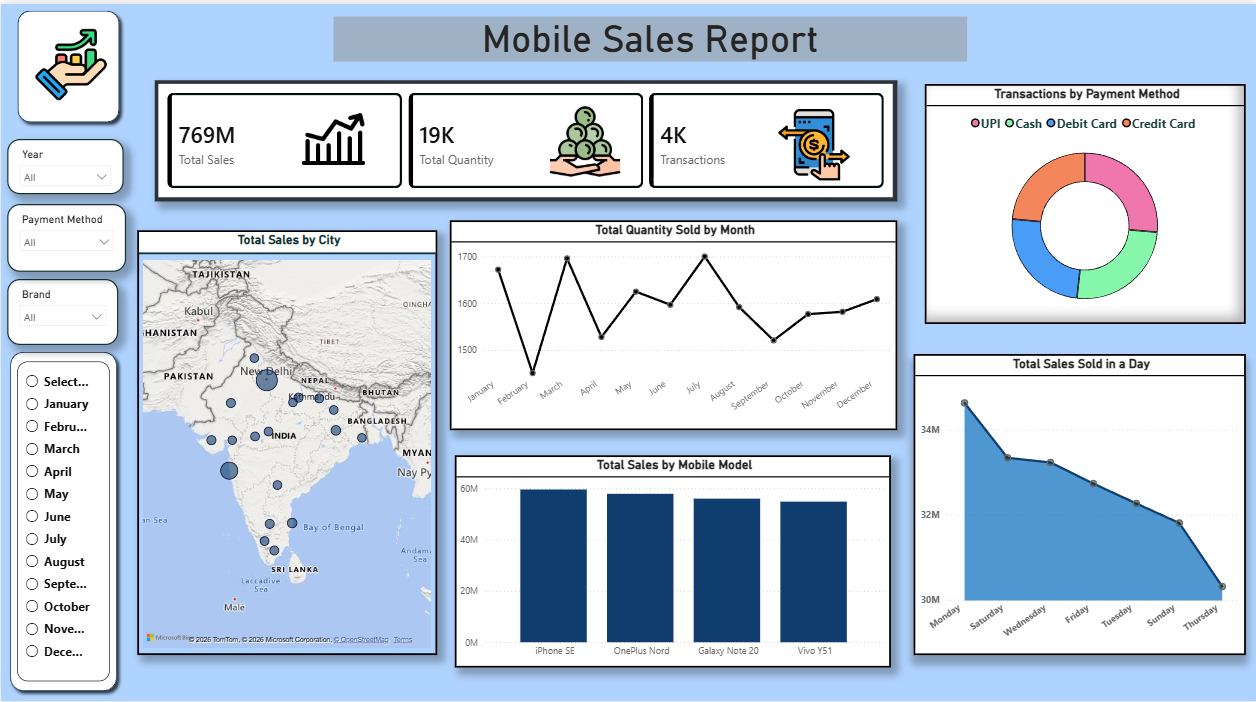

This screenshot's page, from the dashboard's own definition file:
{"tool":"powerbi","page":{"name":"Page 2","canvas":[1677,930],"ordinal":1},"visuals":[{"type":"shape","box":[13.3,0,153.3,166.7],"z":0},{"type":"shape","box":[3.3,455,160,470],"z":1000},{"type":"image","box":[26.7,28.3,133.3,105],"z":2000},{"type":"listSlicer","fields":{"Values":["Mobile Sales Data.Date.Variation.Date Hierarchy.Month"]},"box":[21.7,476.7,123.3,426.7],"z":3000},{"type":"cardVisual","fields":{"Data":["Mobile Sales Data.Total Sales","Mobile Sales Data.Total Quantity","Mobile Sales Data.Transactions"]},"box":[205,101.7,990,161.7],"z":4000},{"type":"image","box":[395,133.3,96.7,93.3],"z":5000},{"type":"image","box":[720,133.3,118.3,100],"z":6000},{"type":"image","box":[1031.7,140,105,95],"z":7000},{"type":"map","fields":{"Category":["Mobile Sales Data.City"],"Size":["Mobile Sales Data.Total Sales"]},"box":[181.7,301.7,400,566.7],"z":8000},{"type":"lineChart","title":"Total Quantity Sold by Month","fields":{"Category":["Mobile Sales Data.Date.Variation.Date Hierarchy.Month"],"Y":["Sum(Mobile Sales Data.Units Sold)"]},"box":[598.3,288.3,596.7,280],"z":9000},{"type":"clusteredColumnChart","title":"Total Sales by Mobile Model","fields":{"Category":["Mobile Sales Data.Mobile Model"],"Y":["Mobile Sales Data.Total Sales"]},"box":[605,601.7,581.7,283.3],"z":10000},{"type":"donutChart","title":"Transactions by Payment Method","fields":{"Category":["Mobile Sales Data.Payment Method"],"Y":["Mobile Sales Data.Transactions"]},"box":[1231.7,106.7,428.3,320],"z":11000},{"type":"areaChart","title":"Total Sales Sold in a Day","fields":{"Category":["Mobile Sales Data.Day Name"],"Y":["Mobile Sales Data.Total Sales"]},"box":[1216.7,466.7,443.3,401.7],"z":12000},{"type":"slicer","fields":{"Values":["Mobile Sales Data.Brand"]},"box":[8.3,366.7,148.3,88.3],"z":13000},{"type":"shape","title":"Mobile Sales Report","box":[443.3,16.7,845,60],"z":14000},{"type":"slicer","fields":{"Values":["Mobile Sales Data.Payment Method"]},"box":[8.3,266.7,158.3,90],"z":15000},{"type":"slicer","fields":{"Values":["Mobile Sales Data.Date.Variation.Date Hierarchy.Year"]},"box":[8.3,180,155,73.3],"z":15001}]}

Visuals, with their boxes in screenshot pixels (x1, y1, x2, y2), scaled from the page's 1677x930 canvas onto the 1256x702 screenshot:
shape: 10, 0, 125, 126
shape: 2, 343, 122, 698
image: 20, 21, 120, 101
listSlicer - Mobile Sales Data.Date.Variation.Date Hierarchy.Month: 16, 360, 109, 682
cardVisual - Mobile Sales Data.Total Sales x Mobile Sales Data.Total Quantity: 154, 77, 895, 199
image: 296, 101, 368, 171
image: 539, 101, 628, 176
image: 773, 106, 851, 177
map - Mobile Sales Data.City x Mobile Sales Data.Total Sales: 136, 228, 436, 656
"Total Quantity Sold by Month" lineChart: 448, 218, 895, 429
"Total Sales by Mobile Model" clusteredColumnChart: 453, 454, 889, 668
"Transactions by Payment Method" donutChart: 922, 81, 1243, 322
"Total Sales Sold in a Day" areaChart: 911, 352, 1243, 656
slicer - Mobile Sales Data.Brand: 6, 277, 117, 343
"Mobile Sales Report" shape: 332, 13, 965, 58
slicer - Mobile Sales Data.Payment Method: 6, 201, 125, 269
slicer - Mobile Sales Data.Date.Variation.Date Hierarchy.Year: 6, 136, 122, 191
